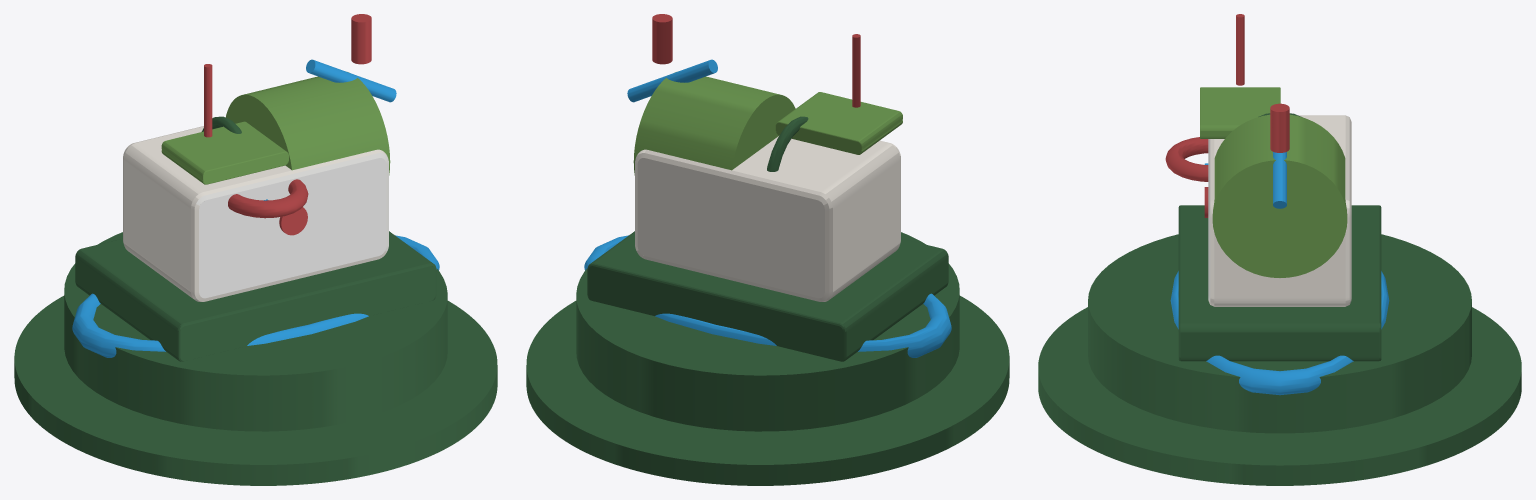
Rendered from 0204_生活中的物理图鉴_托盘天平.glb.
3 renders of one model, left to right at view 1: azimuth 30°, elevation 25°; view 2: azimuth 150°, elevation 25°; view 3: azimuth 270°, elevation 25°, orthographic. The views are drawn at different scales.
Parts seen in each view (by area): view 1: card_0204; view 2: card_0204; view 3: card_0204.
Part boxes in pixels (x1=…): card_0204: x1=14, y1=14, x2=497, y2=485; card_0204: x1=526, y1=14, x2=1009, y2=485; card_0204: x1=1038, y1=14, x2=1521, y2=485.
Bounding box in the file's own units: 1.25 × 1 × 1.29.
